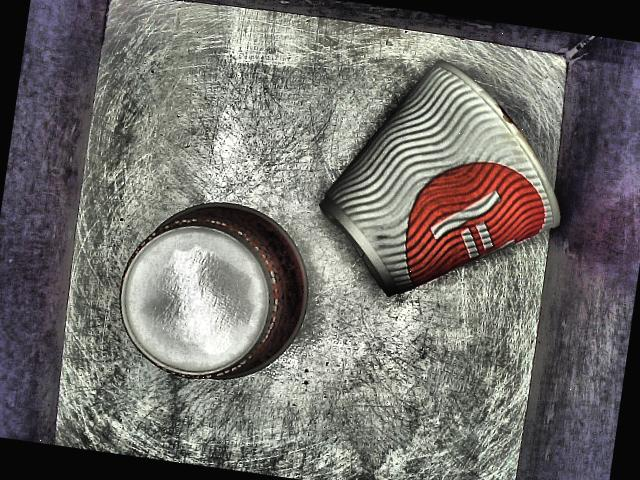Paper: (307, 38, 597, 328), (76, 184, 332, 415)
